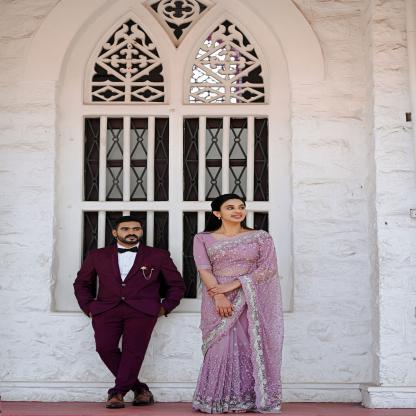Eye: (238, 206, 244, 210), (226, 207, 234, 210), (133, 229, 140, 231), (122, 229, 129, 231)
Mouth: (231, 214, 242, 218), (127, 236, 136, 239)
Nose: (235, 207, 242, 214), (128, 230, 135, 235)
